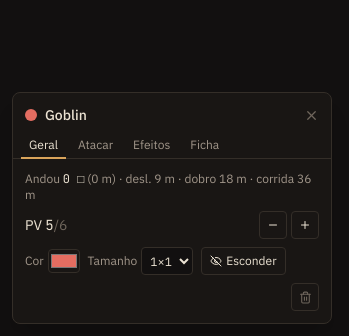
Test case: TokenPanel › ataque usa o bônus com efeitos e mostra o resultado
This screenshot has width=349, height=336.
Click the tab "Atacar" at (96, 146), box [70,133,121,159]
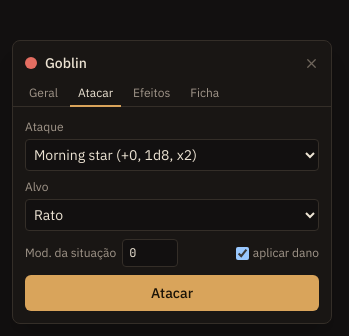
Replace the text in the number field named "Modificador da situação" with "2" at (150, 253), box [122,239,178,267]
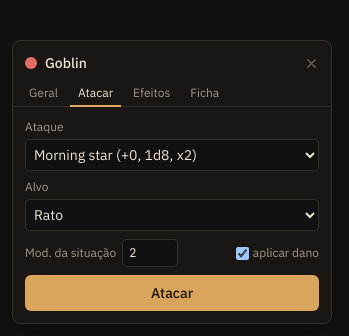
Click the button "Atacar" at (172, 293), box [25,275,319,311]
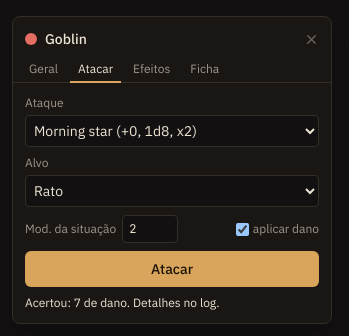
Expected: the text "Acertou: 7 de dano. Detalhes no log." is shown, [25,295,220,310]
